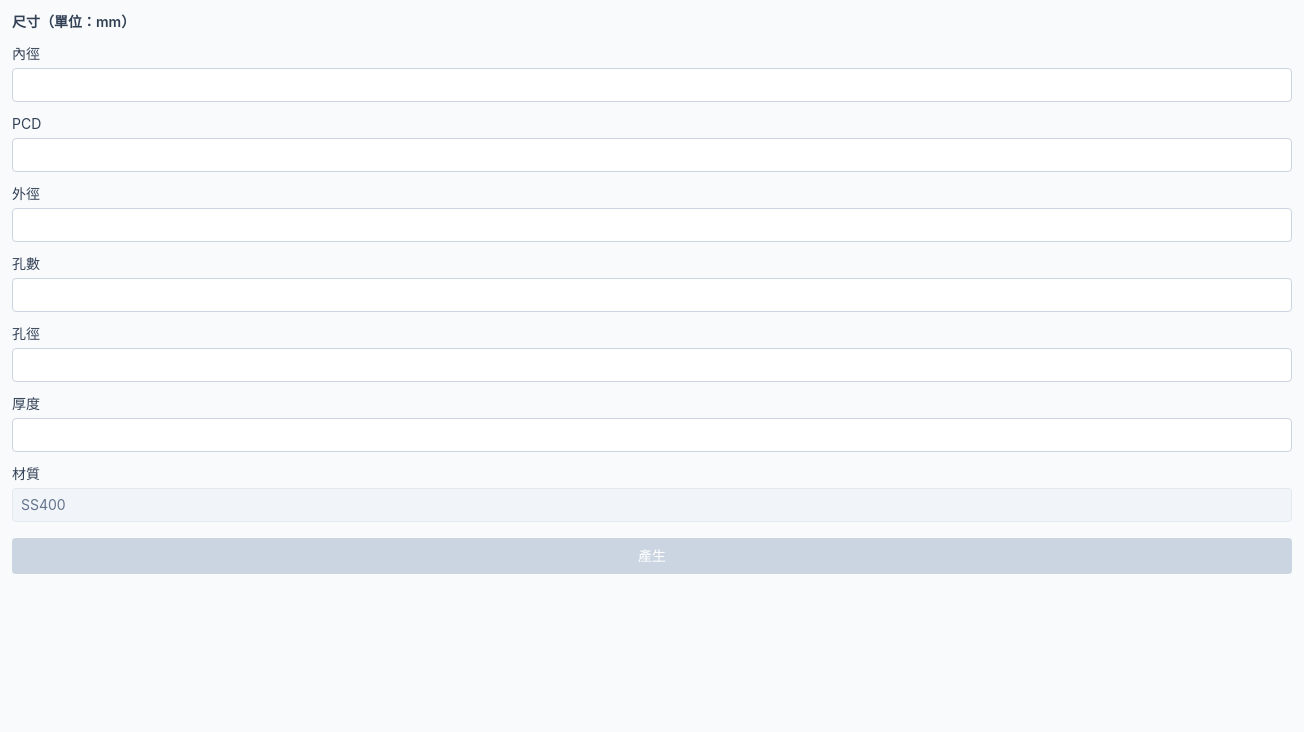
Scenario: FlangeForm › shows outer diameter error when outer <= PCD
Type "100" into the number field with test id "field-inner_diameter_mm".
click(652, 85); type("100")  # box x1=12 y1=68 x2=1292 y2=102
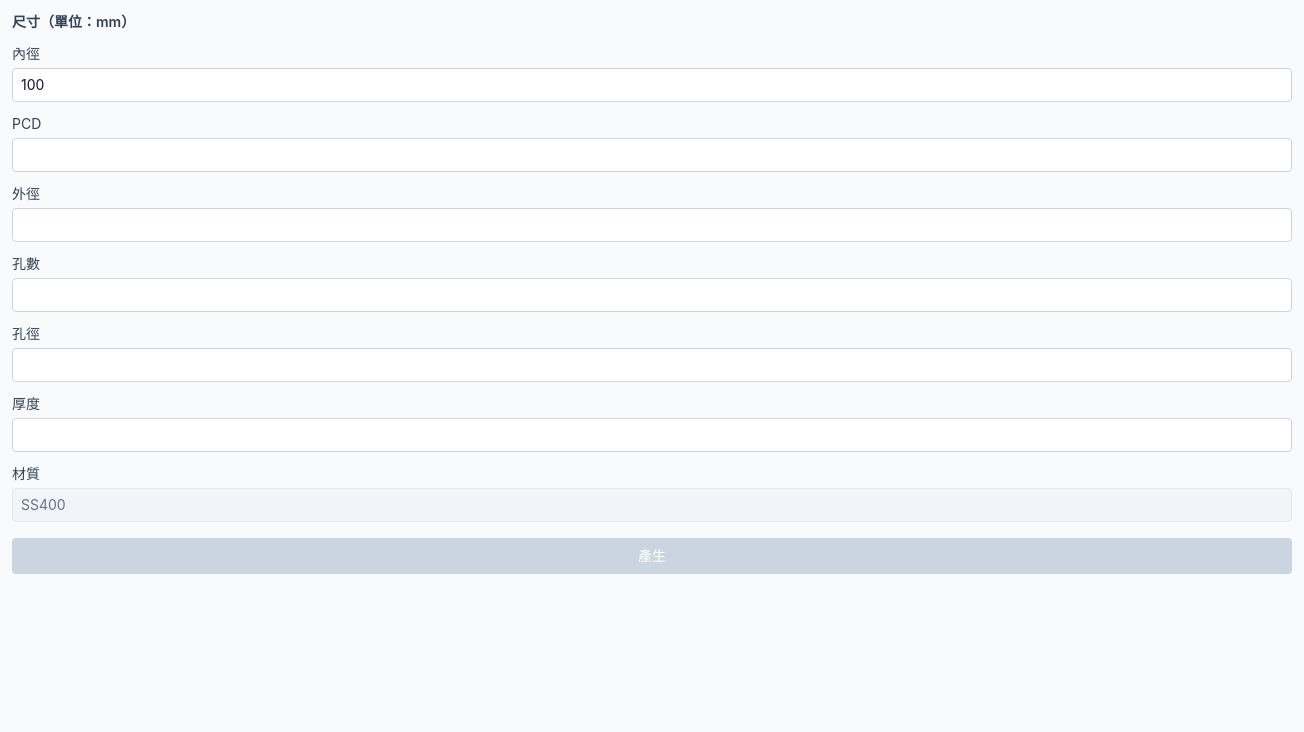
Type "150" into the number field with test id "field-pcd_mm".
click(652, 155); type("150")  # box x1=12 y1=138 x2=1292 y2=172
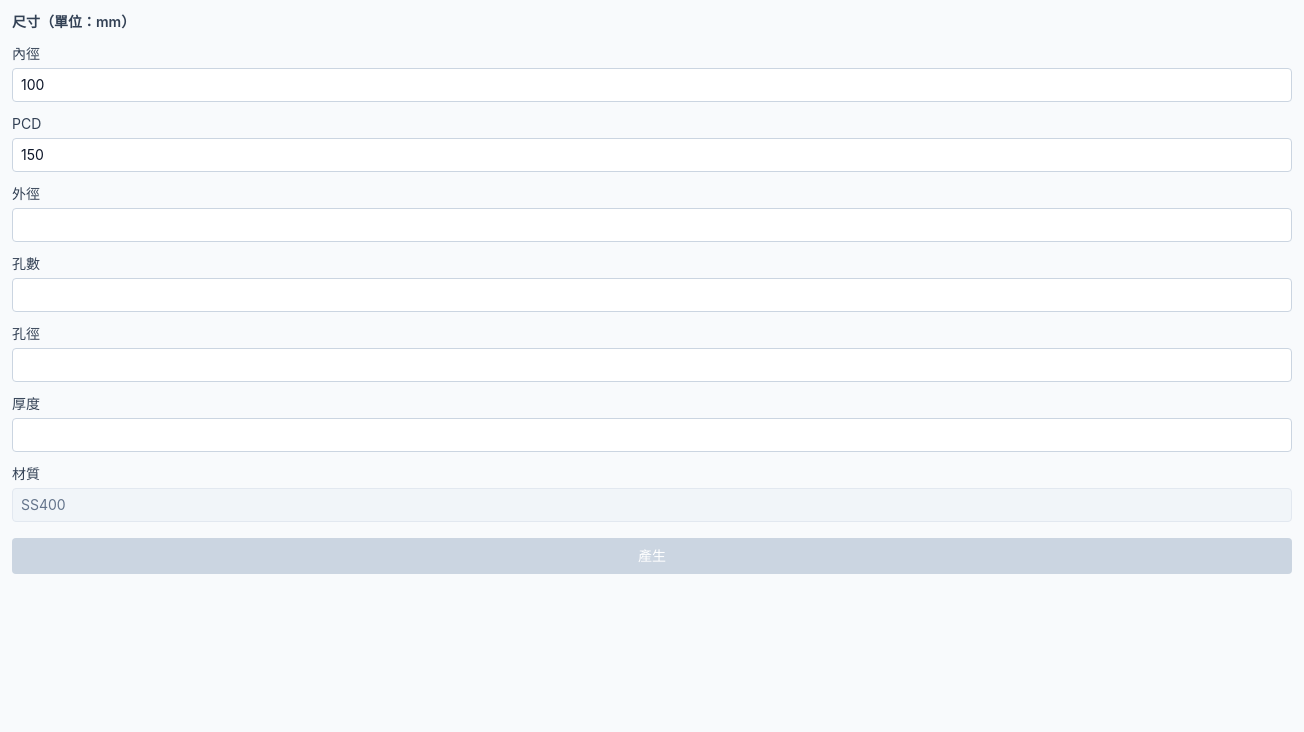
Type "150" into the number field with test id "field-outer_diameter_mm".
click(652, 225); type("150")  # box x1=12 y1=208 x2=1292 y2=242
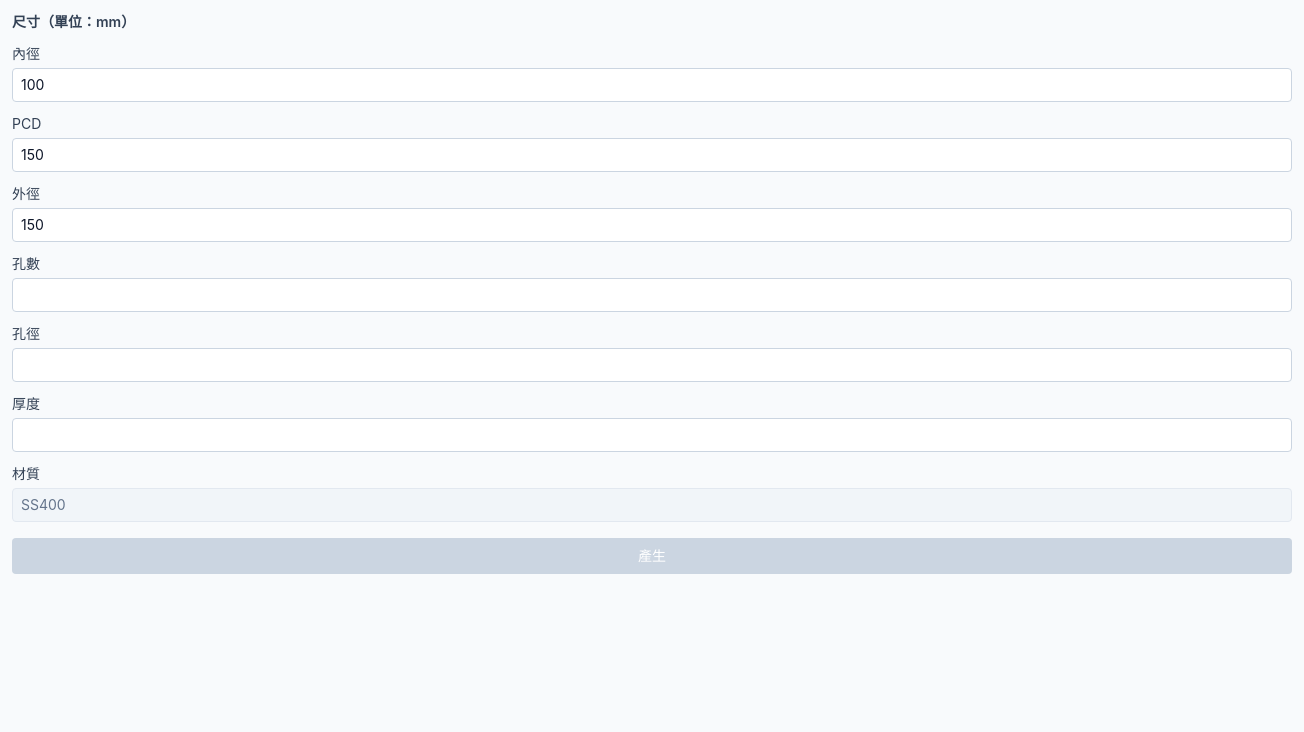
Type "4" into the number field with test id "field-bolt_hole_count".
click(652, 295); type("4")  # box x1=12 y1=278 x2=1292 y2=312
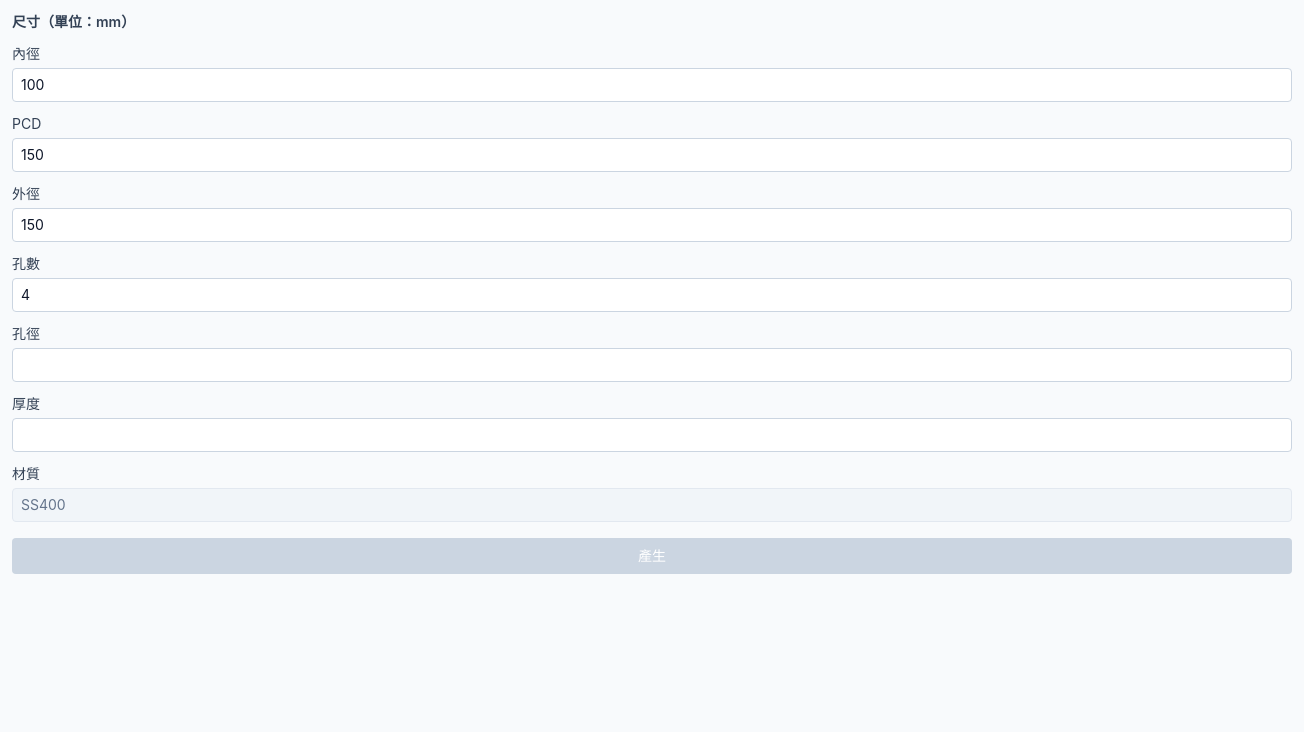
Type "10" into the number field with test id "field-bolt_hole_diameter_mm".
click(652, 365); type("10")  # box x1=12 y1=348 x2=1292 y2=382
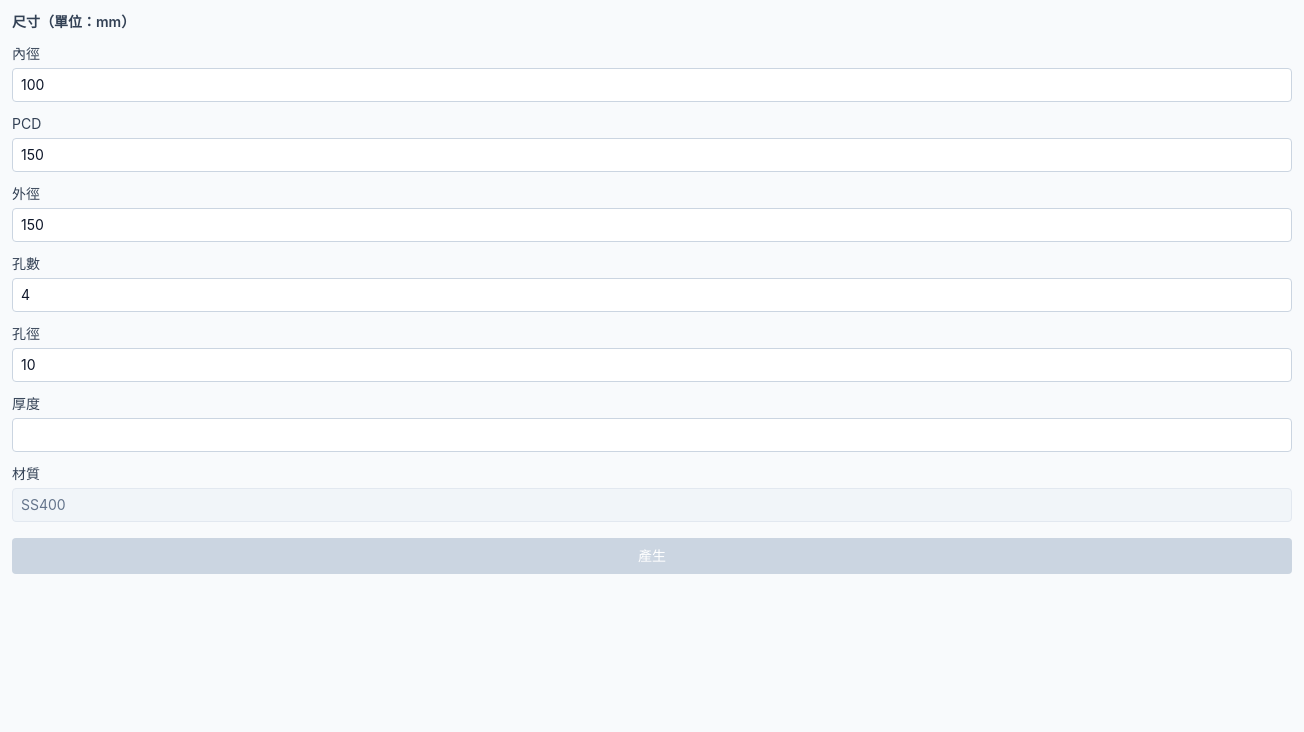
Type "12" into the number field with test id "field-thickness_mm".
click(652, 435); type("12")  # box x1=12 y1=418 x2=1292 y2=452
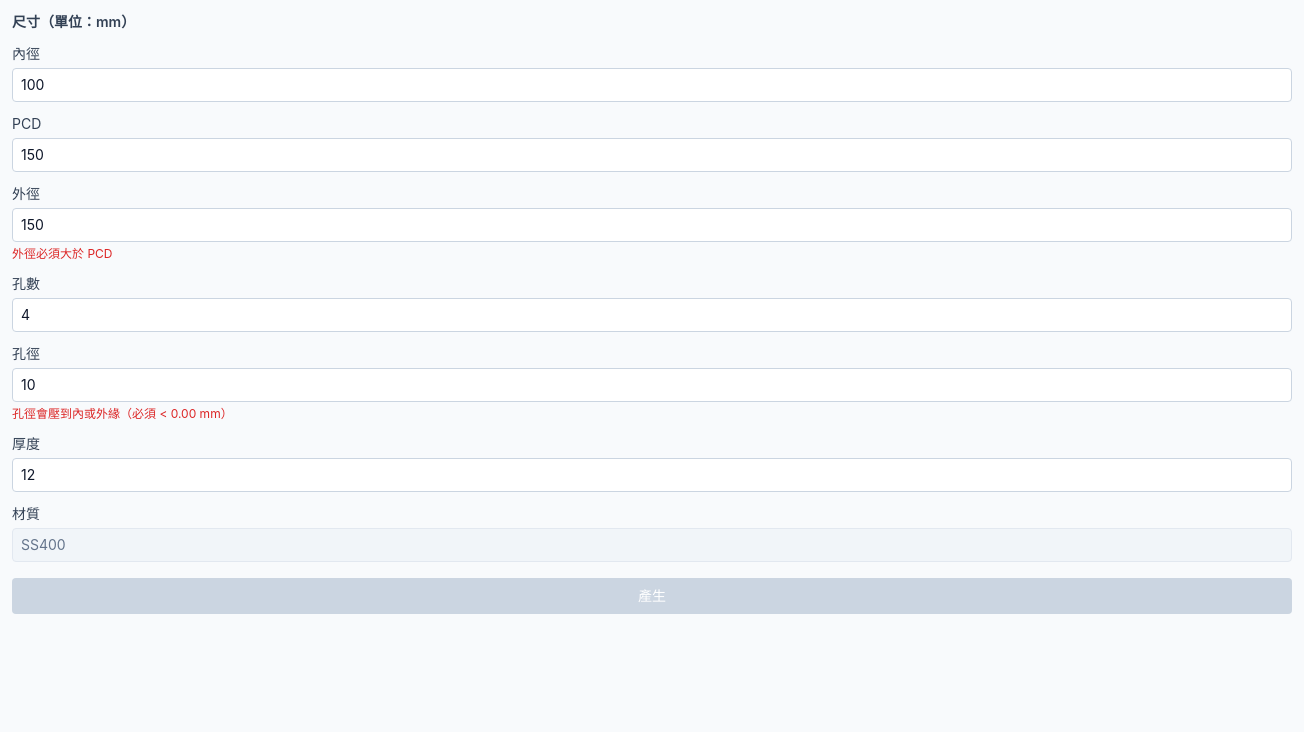
Now the text with test id "error-outer_diameter_mm" reads "外徑必須大於 PCD", box x1=12 y1=246 x2=112 y2=261
